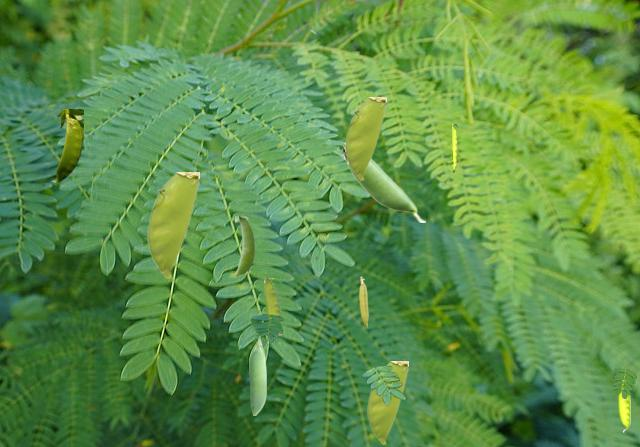pea: (342, 143, 424, 221), (147, 172, 198, 277), (367, 361, 407, 443), (345, 97, 385, 179), (51, 109, 82, 182), (249, 336, 265, 414), (235, 216, 253, 276), (264, 278, 280, 334), (617, 394, 629, 431), (359, 276, 367, 327), (452, 124, 458, 171)
